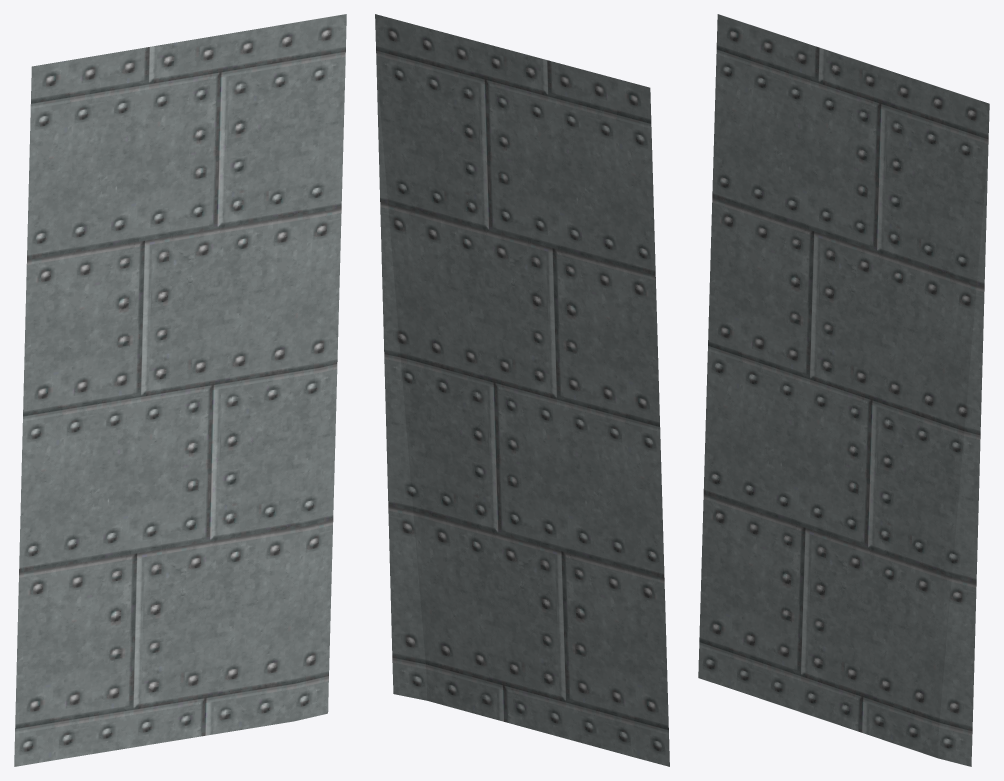
File: WallBlock4.glb
3 views of the same model, side by side, from view 1: azimuth 30°, elevation 25°; view 2: azimuth 150°, elevation 25°; view 3: azimuth 330°, elevation 25° (orthographic). The views are drawn at different scales.
Parts seen in each view (by area): view 1: BattleShipKillerBossRoom.001; view 2: BattleShipKillerBossRoom.001; view 3: BattleShipKillerBossRoom.001.
Boxes of the visible parts, x1,y1,x2,y2 form: BattleShipKillerBossRoom.001: (14, 14, 346, 766); BattleShipKillerBossRoom.001: (375, 14, 669, 766); BattleShipKillerBossRoom.001: (698, 14, 989, 766).
Size of the model in its own units: 2.44 by 5.15 by 0.2204.
1 material, 1 textured.
